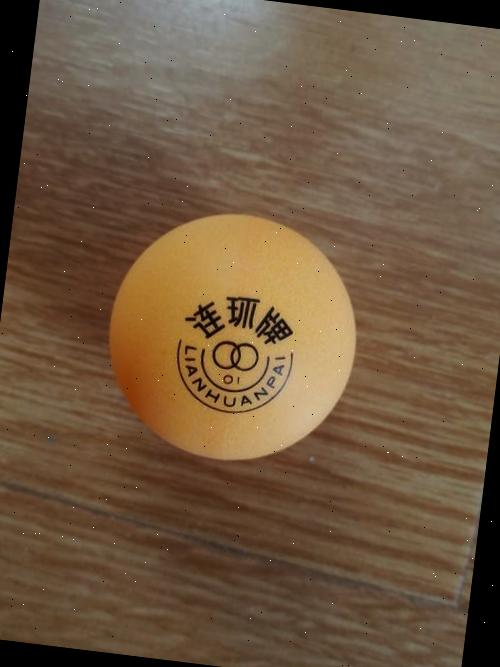ball: (84, 188, 378, 482)
